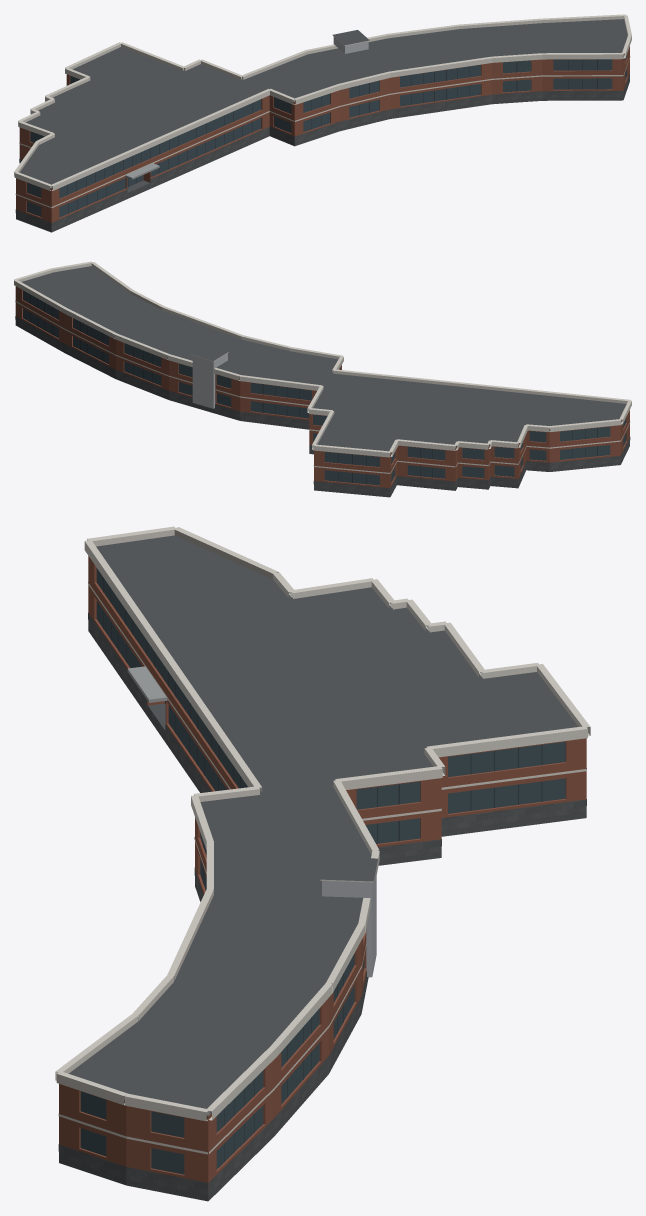
The picture shows the model from 3 angles, top to bottom: view 1: azimuth 30°, elevation 25°; view 2: azimuth 150°, elevation 25°; view 3: azimuth 270°, elevation 25°; orthographic projection. The views are drawn at different scales.
Parts seen in each view (by area): view 1: intlCenter__roof, intlCenter__glass, intlCenter__wall, intlCenter__trim, intlCenter__base, intlCenter__frame; view 2: intlCenter__roof, intlCenter__wall, intlCenter__trim, intlCenter__glass, intlCenter__base, intlCenter__wall2, intlCenter__frame; view 3: intlCenter__roof, intlCenter__trim, intlCenter__wall, intlCenter__glass, intlCenter__base, intlCenter__wall2, intlCenter__frame.
Boxes of the visible parts, <box> form: intlCenter__roof: <box>20,19,627,192</box>; intlCenter__glass: <box>27,55,626,217</box>; intlCenter__wall: <box>16,46,629,226</box>; intlCenter__trim: <box>14,14,631,208</box>; intlCenter__base: <box>15,73,629,232</box>; intlCenter__frame: <box>67,59,597,213</box>; intlCenter__roof: <box>21,266,626,454</box>; intlCenter__wall: <box>15,286,629,490</box>; intlCenter__trim: <box>14,261,631,473</box>; intlCenter__glass: <box>23,290,626,485</box>; intlCenter__base: <box>15,316,630,497</box>; intlCenter__wall2: <box>192,353,227,408</box>; intlCenter__frame: <box>30,294,597,483</box>; intlCenter__roof: <box>69,535,578,1116</box>; intlCenter__trim: <box>55,526,590,1154</box>; intlCenter__wall: <box>59,556,586,1189</box>; intlCenter__glass: <box>80,568,565,1174</box>; intlCenter__base: <box>58,613,586,1201</box>; intlCenter__wall2: <box>322,869,376,977</box>; intlCenter__frame: <box>103,577,542,1161</box>.
Bounding box in the file's own units: 130 × 11.2 × 50.23.
9 materials, 1 textured.
